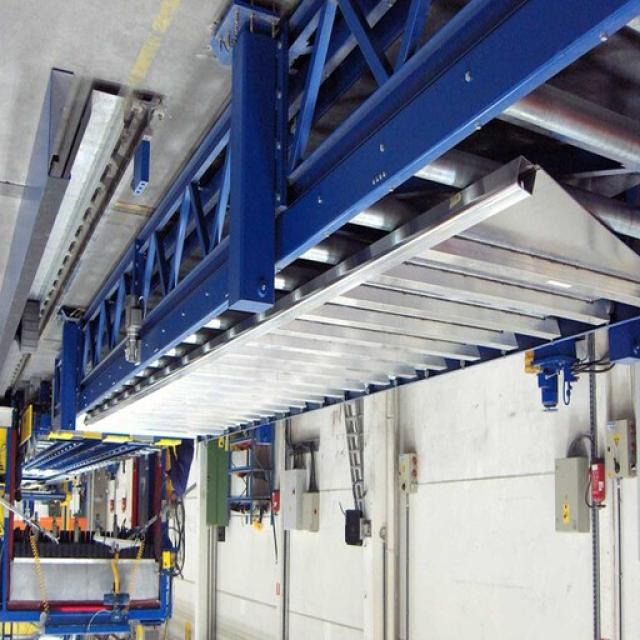conveyor: (18, 171, 640, 487)
